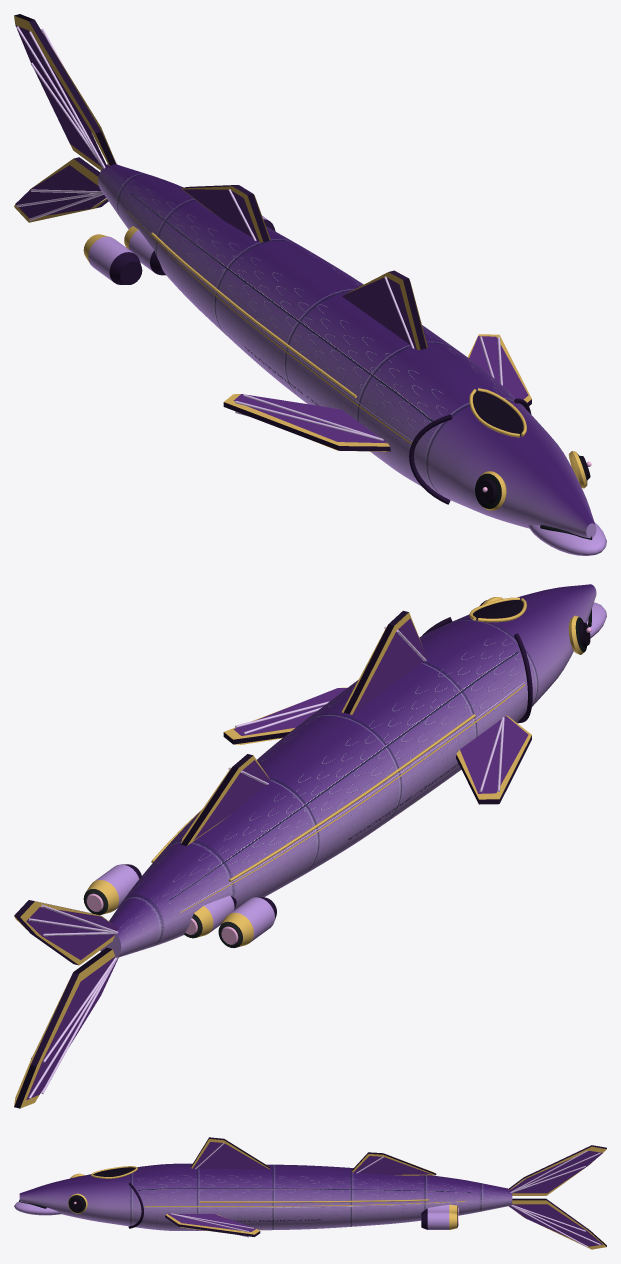
3 renders of one model, top to bottom at view 1: azimuth 30°, elevation 25°; view 2: azimuth 150°, elevation 25°; view 3: azimuth 270°, elevation 25°, orthographic. The views are drawn at different scales.
Visible parts, largest first — view 1: barracuda_hull; view 2: barracuda_hull; view 3: barracuda_hull.
Part boxes in pixels (x1,y1,x2,y2): barracuda_hull: [14, 14, 606, 555]; barracuda_hull: [14, 584, 606, 1108]; barracuda_hull: [14, 1137, 606, 1249].
Size of the model in its own units: 10.99 by 8.25 by 40.
Materials: 1 (1 with a texture image).
